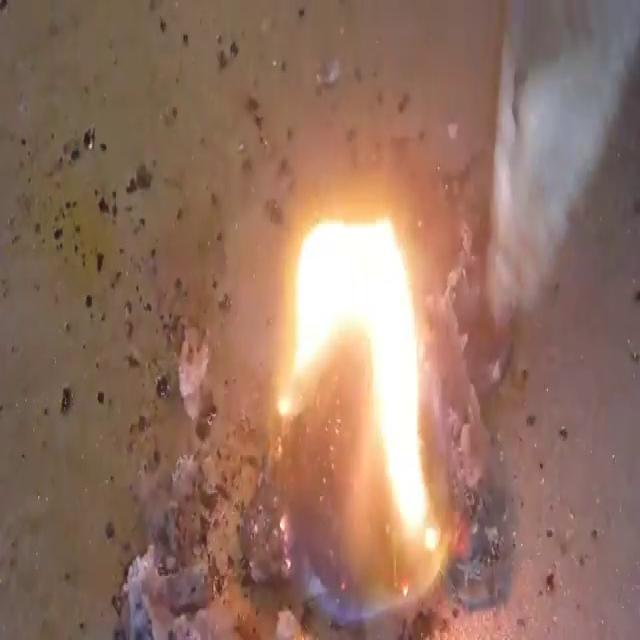Fire: (4, 4, 636, 636), (270, 203, 450, 608)
